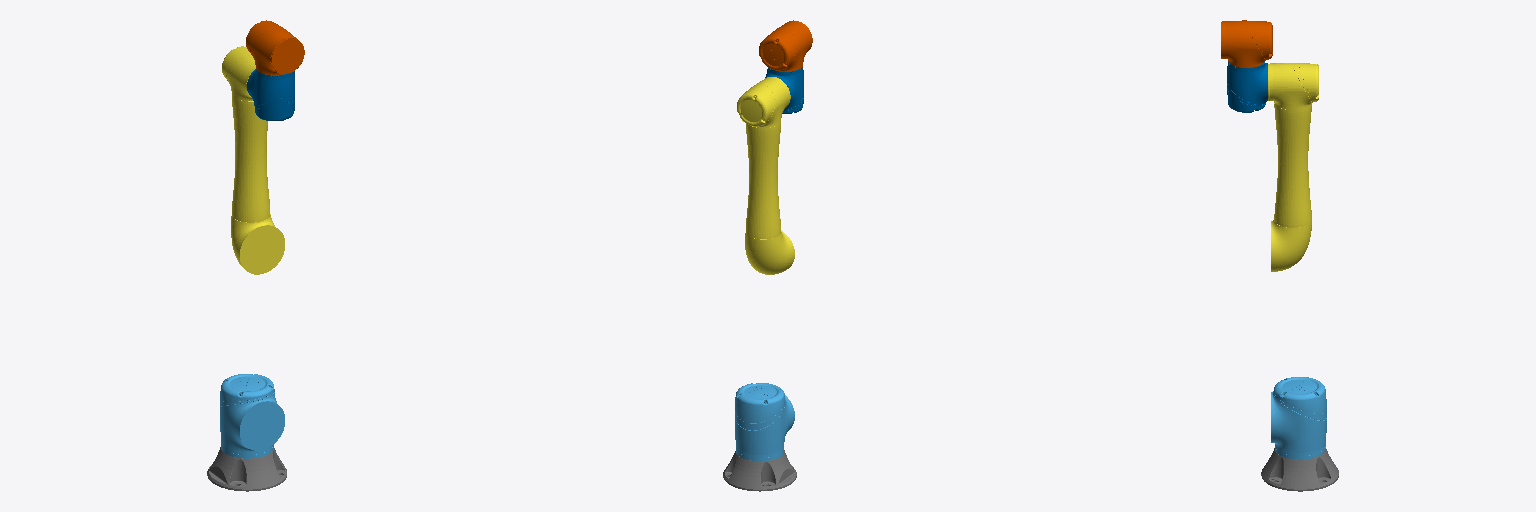
robot.urdf — tm5_900:
<?xml version="1.0" ?>
<robot name="tm5_900">
<!--
    <link name="">
        <visual>
            <geometry>
                <mesh filename="" />
            </geometry>
            <material name="Black">
                <color rgba="1.0 1.0 1.0 1.0"/>
            </material>
        </visual>
        <collision>
            <geometry>
                <mesh filename="" />
            </geometry>
        </collision>
    </link>

    <joint name="" type="revolute">
        <parent link="" />
        <child link="" />
        <origin  xyz="0 0 0" rpy="0 0 0" />
        <axis xyz="0 0 1" />
        <limit effort="10.0" lower="-3.14" upper="3.14" velocity="1.0" />
    </joint>
-->

    <link name="base_link">
        <visual>
            <geometry>
                <mesh filename="package://tm5_description/meshes/tm5_900/visual/tm5_base.obj" />
            </geometry>
            <material name="LightGrey">
                <color rgba="0.5 0.5 0.5 1.0"/>
            </material>
        </visual>
        <collision>
            <geometry>
                <mesh filename="package://tm5_description/meshes/tm5_900/collision/tm5_base_c.STL" />
            </geometry>
        </collision>
    </link>

    <joint name="shoulder_1_joint" type="revolute">
        <parent link="base_link" />
        <child link="shoulder_1_link" />
        <origin xyz="0 0.1452 0" rpy="0 0 0" />
        <axis xyz="0 1 0" />
        <limit effort="10.0" lower="-3.14" upper="3.14" velocity="1.0" />
    </joint>

    <link name="shoulder_1_link">
        <visual>
            <geometry>
                <mesh filename="package://tm5_description/meshes/tm5_900/visual/tm_400w_01.obj" />
            </geometry>
        </visual>
        <collision>
            <geometry>
                <mesh filename="package://tm5_description/meshes/tm5_900/collision/tm_400w_01_c.STL" />
            </geometry>
        </collision>
    </link>

    <joint name="shoulder_2_joint" type="revolute">
        <parent link="shoulder_1_link" />
        <child link="arm_1_link" />
        <origin xyz="0 0 0.146" rpy="0 0 0" />
        <axis xyz="0 0 -1" />
        <limit effort="10.0" lower="-3.14" upper="3.14" velocity="1.0" />
    </joint>

    <link name="arm_1_link">
        <visual>
            <geometry>
                <mesh filename="package://tm5_description/meshes/tm5_900/visual/tm5_900_arm1.obj" />
            </geometry>
        </visual>
        <collision>
            <geometry>
                <mesh filename="package://tm5_description/meshes/tm5_900/collision/tm5_900_arm1_c.STL" />
            </geometry>
        </collision>
    </link>

    <joint name="elbow_joint" type="revolute">
        <parent link="arm_1_link" />
        <child link="arm_2_link" />
        <origin  xyz="0 0.429 -0.1297" rpy="0 0 0" />
        <axis xyz="0 0 -1" />
        <limit effort="10.0" lower="-3.14" upper="3.14" velocity="1.0" />
    </joint>

    <link name="arm_2_link">
        <visual>
            <geometry>
                <mesh filename="package://tm5_description/meshes/tm5_900/visual/tm5_900_arm2.obj" />
            </geometry>
        </visual>
        <collision>
            <geometry>
                <mesh filename="package://tm5_description/meshes/tm5_900/collision/tm5_900_arm2_c.STL" />
            </geometry>
        </collision>
    </link>

    <joint name="wrist_1_joint" type="revolute">
        <parent link="arm_2_link" />
        <child link="wrist_1_link" />
        <origin xyz="0 0.4115 0.106" rpy="0 0 0" />
        <axis xyz="0 0 -1" />
        <limit effort="10.0" lower="-3.14" upper="3.14" velocity="1.0" />
    </joint>

    <link name="wrist_1_link">
        <visual>
            <geometry>
                <mesh filename="package://tm5_description/meshes/tm5_900/visual/tm_100w_01.obj" />
            </geometry>
        </visual>
        <collision>
            <geometry>
                <mesh filename="package://tm5_description/meshes/tm5_900/collision/tm_100w_01_c.STL" />
            </geometry>
        </collision>
    </link>

    <joint name="wrist_2_joint" type="revolute">
        <parent link="wrist_1_link" />
        <child link="wrist_2_link" />
        <origin xyz="0 0.106 0" rpy="0 0 0" />
        <axis xyz="0 1 0" />
        <limit effort="10.0" lower="-3.14" upper="3.14" velocity="1.0" />
    </joint>

    <link name="wrist_2_link">
        <visual>
            <geometry>
                <mesh filename="package://tm5_description/meshes/tm5_900/visual/tm_100w_02.obj" />
            </geometry>
        </visual>
        <collision>
            <geometry>
                <mesh filename="package://tm5_description/meshes/tm5_900/collision/tm_100w_02_c.stl" />
            </geometry>
        </collision>
    </link>

    <joint name="wrist_3_joint" type="revolute">
        <parent link="wrist_2_link" />
        <child link="wrist_3_link" />
        <origin xyz="0 0 0.11315" rpy="0 0 0" />
        <axis xyz="0 0 1" />
        <limit effort="10.0" lower="-3.14" upper="3.14" velocity="1.0" />
    </joint>

    <link name="wrist_3_link">
        <visual>
            <geometry>
                <mesh filename="package://tm5_description/meshes/tm5_900/visual/tm_ee.obj" />
            </geometry>
        </visual>
        <collision>
            <geometry>
                <mesh filename="package://tm5_description/meshes/tm5_900/collision/tm_ee_c.stl" />
            </geometry>
        </collision>
    </link>

    <link name="base" />
    <joint name="base_fixed_joint" type="fixed">
        <parent link="base" />
        <child link="base_link" />
        <origin xyz="0 0 0" rpy="1.57079632679 0 0" />
    </joint>

    <link name="tool0" />
    <joint name="tool0_fixed_joint" type="fixed">
        <parent link="wrist_3_link"/>
        <child link="tool0"/>
        <origin xyz="0 0 0" rpy="0 0 0"/>
    </joint>
</robot>

--- What the picture shows (computed from the rendered views, not written in the file) ---
3 views of the same robot in one strip: view 1: azimuth 30°, elevation 25°; view 2: azimuth 150°, elevation 25°; view 3: azimuth 270°, elevation 25° (orthographic).
Model tm5_900 with 9 links and 8 joints (6 revolute, 2 fixed), rooted at base, posed every joint at zero.
Visible links, largest first — view 1: arm_2_link, shoulder_1_link, base_link, wrist_2_link, wrist_1_link; view 2: arm_2_link, shoulder_1_link, base_link, wrist_2_link, wrist_1_link; view 3: arm_2_link, shoulder_1_link, base_link, wrist_2_link, wrist_1_link.
Link boxes in pixels (box(x1,y1,x2,y2)): arm_2_link: box(222, 46, 284, 274); shoulder_1_link: box(220, 374, 284, 458); base_link: box(207, 447, 286, 491); wrist_2_link: box(246, 20, 304, 75); wrist_1_link: box(247, 69, 294, 120); arm_2_link: box(737, 77, 794, 274); shoulder_1_link: box(735, 383, 794, 460); base_link: box(723, 450, 796, 491); wrist_2_link: box(759, 20, 812, 71); wrist_1_link: box(765, 67, 803, 113); arm_2_link: box(1268, 63, 1318, 271); shoulder_1_link: box(1271, 377, 1326, 459); base_link: box(1261, 448, 1338, 491); wrist_2_link: box(1221, 20, 1272, 67); wrist_1_link: box(1227, 62, 1267, 112).
Bounding box of the posed robot: 0.1768 × 0.2692 × 1.14 m (x, y, z).
Meshes: 7 distinct files referenced, 5 mesh visuals loaded (5 OBJ); not drawn: 2 (reference not matched to a file when rendering).